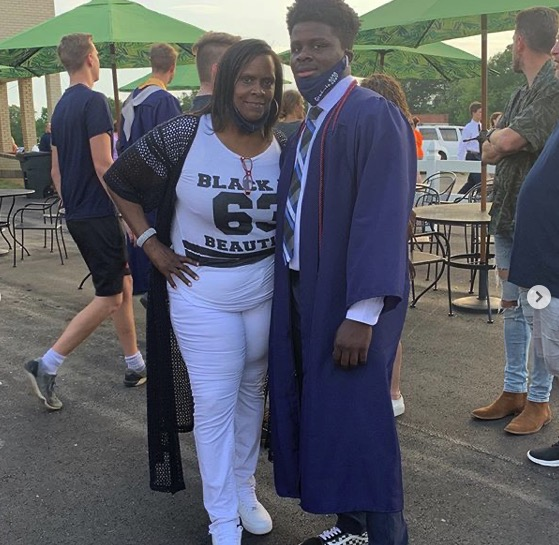mask_weared_incorrect: (287, 35, 349, 94), (234, 66, 274, 131)
without_mask: (86, 45, 107, 82), (507, 32, 523, 70)
